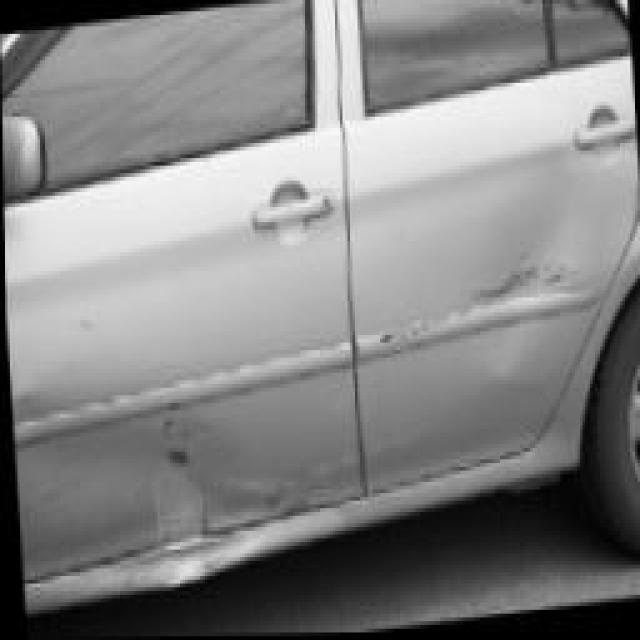Door: (10, 331, 366, 593), (372, 237, 610, 373)
